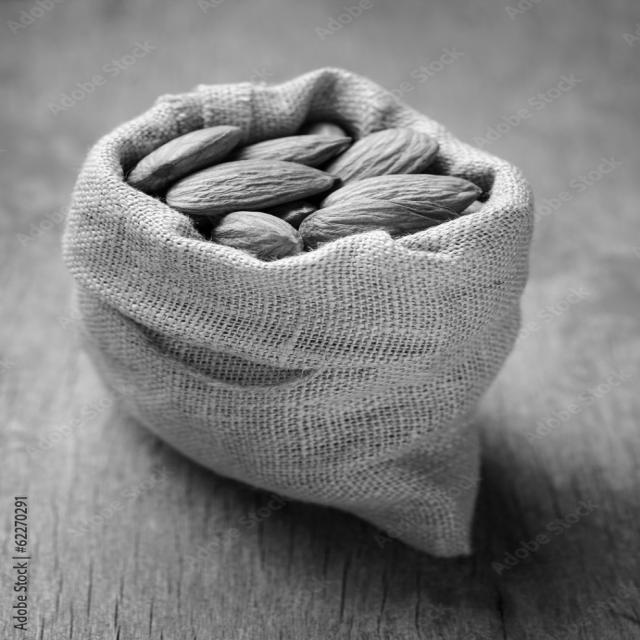sack: (60, 66, 534, 556)
